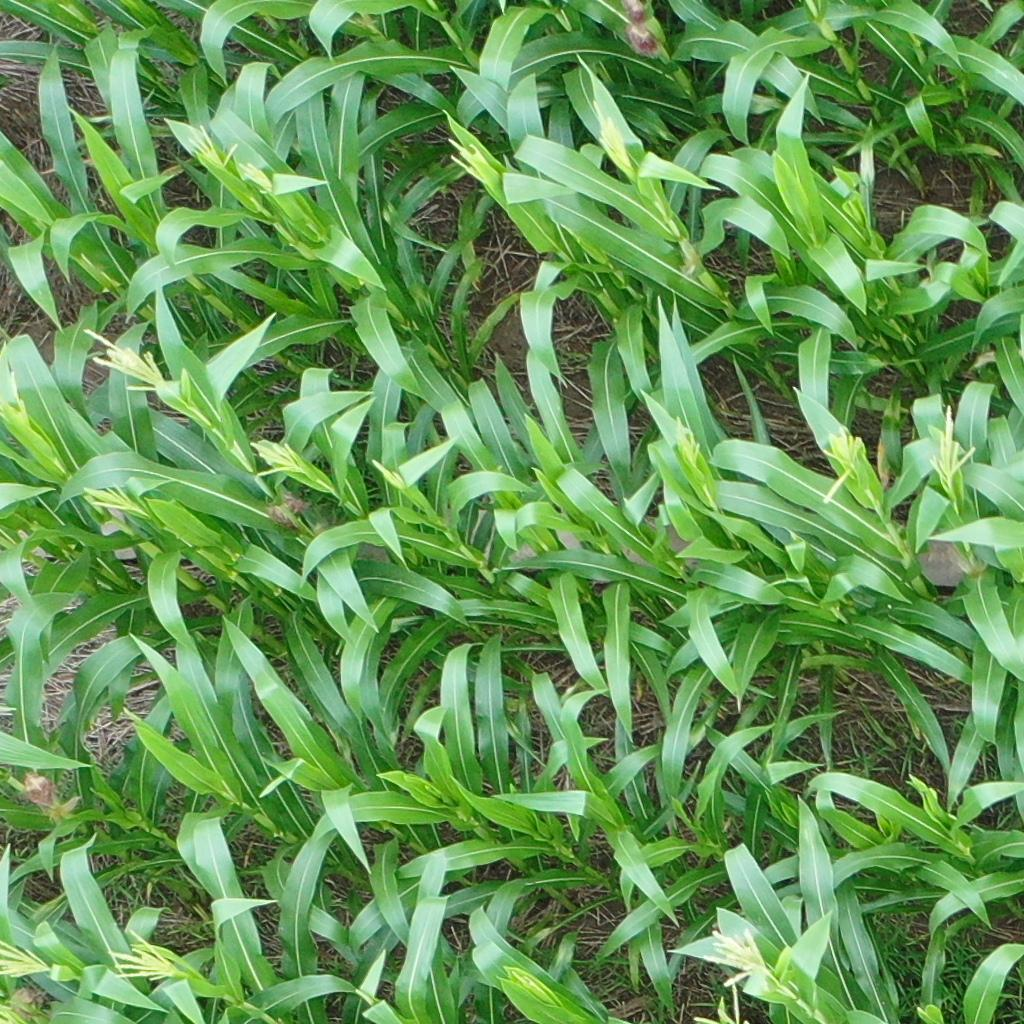Tassel: (82, 322, 172, 395), (697, 923, 778, 993), (813, 424, 870, 504), (922, 403, 978, 483), (108, 927, 179, 983), (585, 98, 631, 169), (183, 119, 243, 171), (78, 477, 152, 519), (247, 438, 311, 480), (1, 933, 53, 982), (444, 133, 492, 179), (672, 406, 703, 470), (1, 372, 34, 430), (236, 157, 278, 194), (371, 456, 407, 491), (511, 970, 544, 990)
